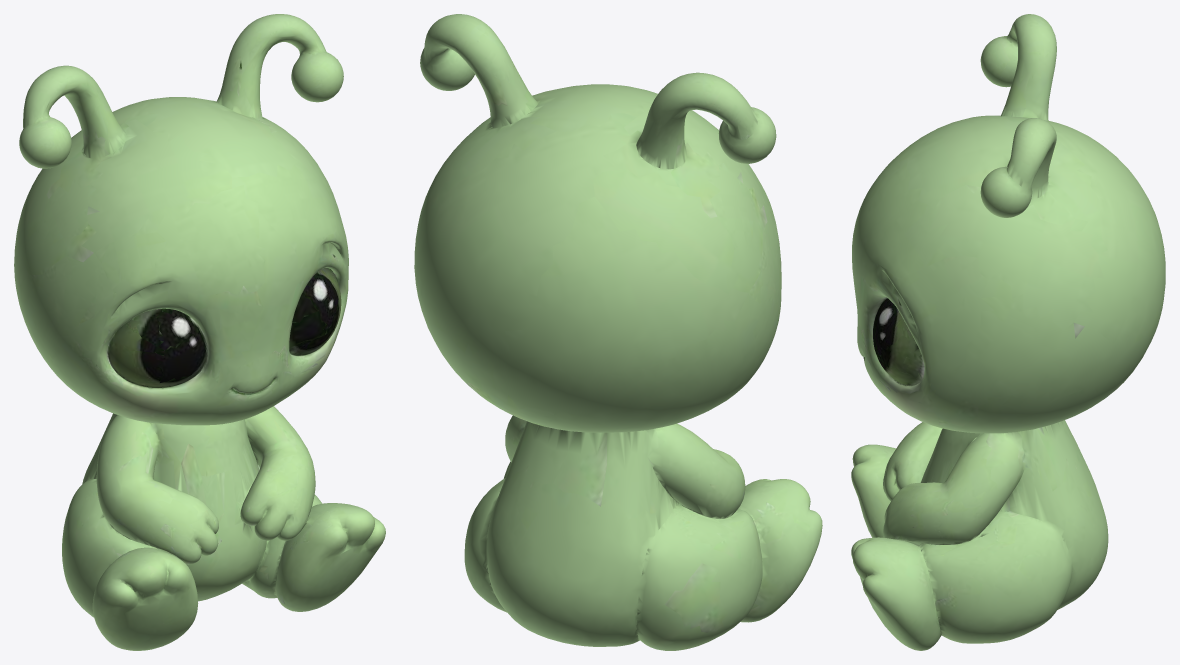
3 renders of one model, left to right at view 1: azimuth 30°, elevation 25°; view 2: azimuth 150°, elevation 25°; view 3: azimuth 270°, elevation 25°, orthographic. The views are drawn at different scales.
Size of the model in its own units: 1.17 by 1.9 by 1.02.
Materials: 1 (1 with a texture image).
